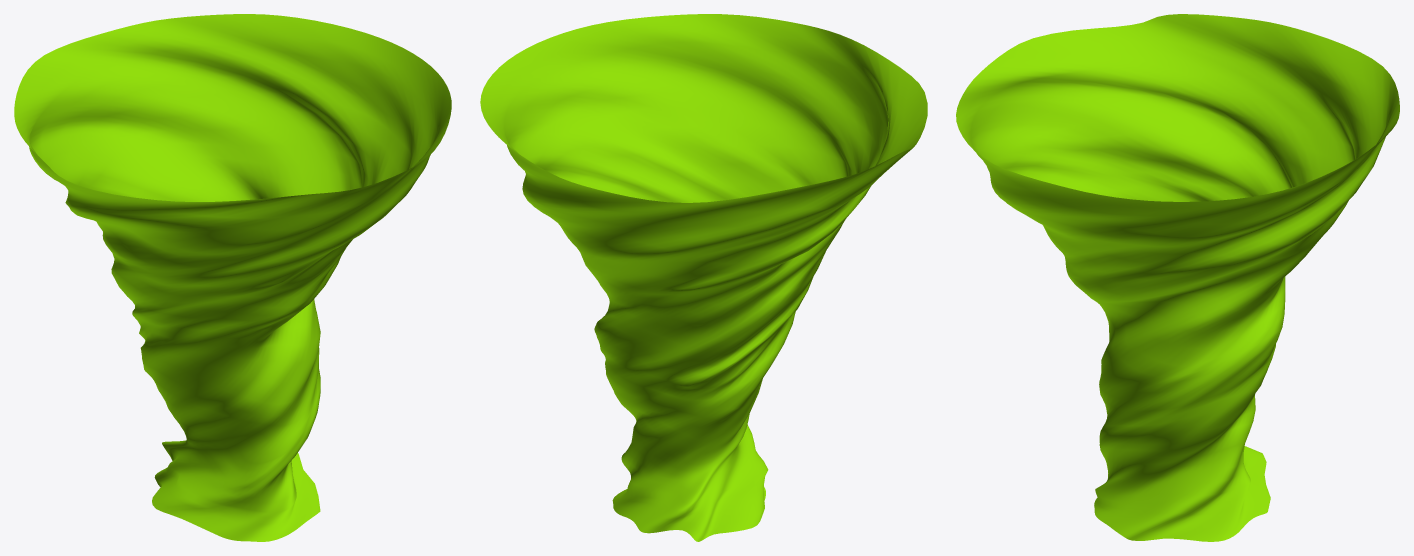
File: Tornado1.fbx
3 renders of one model, left to right at view 1: azimuth 30°, elevation 25°; view 2: azimuth 150°, elevation 25°; view 3: azimuth 270°, elevation 25°, orthographic.
Visible parts, largest first — view 1: SM_Tornado01.mo; view 2: SM_Tornado01.mo; view 3: SM_Tornado01.mo.
Boxes of the visible parts, left/top/right/bottom form: SM_Tornado01.mo: left=14, top=14, right=451, bottom=541; SM_Tornado01.mo: left=480, top=14, right=927, bottom=541; SM_Tornado01.mo: left=956, top=14, right=1399, bottom=541.
Size of the model in its own units: 106 by 106 by 105.
